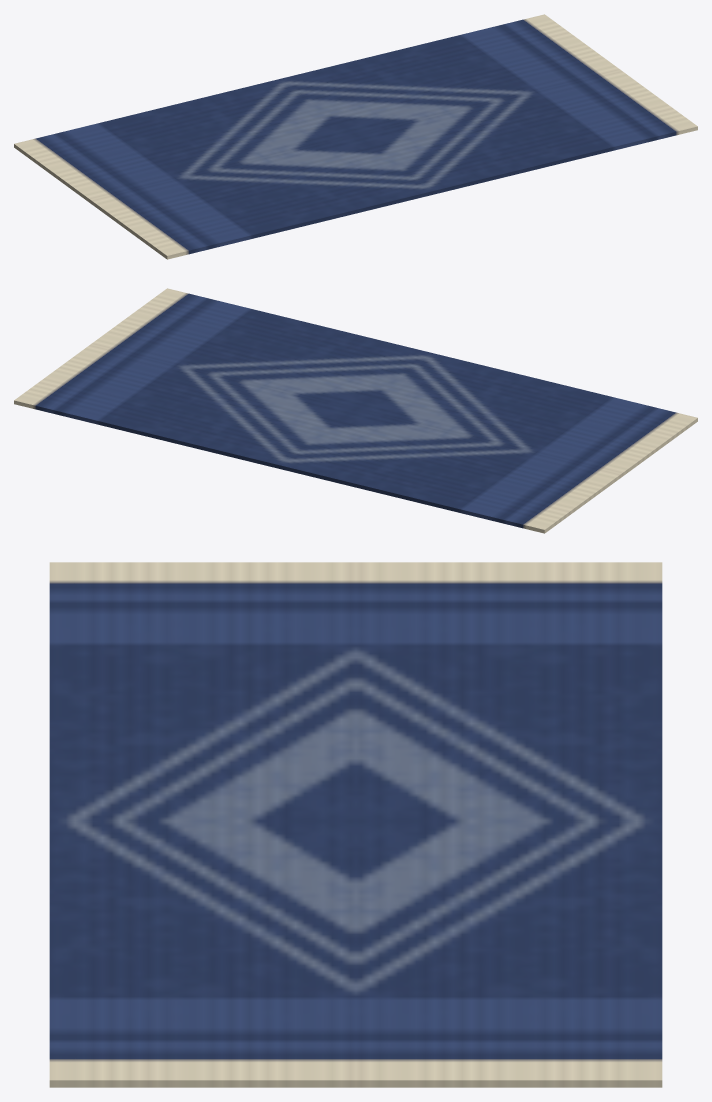
Rendered from AIR0110004.fbx.
3 views of the same model, one above another, from view 1: azimuth 30°, elevation 25°; view 2: azimuth 150°, elevation 25°; view 3: azimuth 270°, elevation 25° (orthographic). The views are drawn at different scales.
Visible parts, largest first — view 1: smAIR0110004; view 2: smAIR0110004; view 3: smAIR0110004.
Part boxes in pixels (x1,y1,x2,y2): smAIR0110004: (14,14,697,259); smAIR0110004: (14,288,697,533); smAIR0110004: (49,562,662,1087).
Size of the model in its own units: 154 by 1.03 by 77.1.
Materials: 1 (1 with a texture image).
